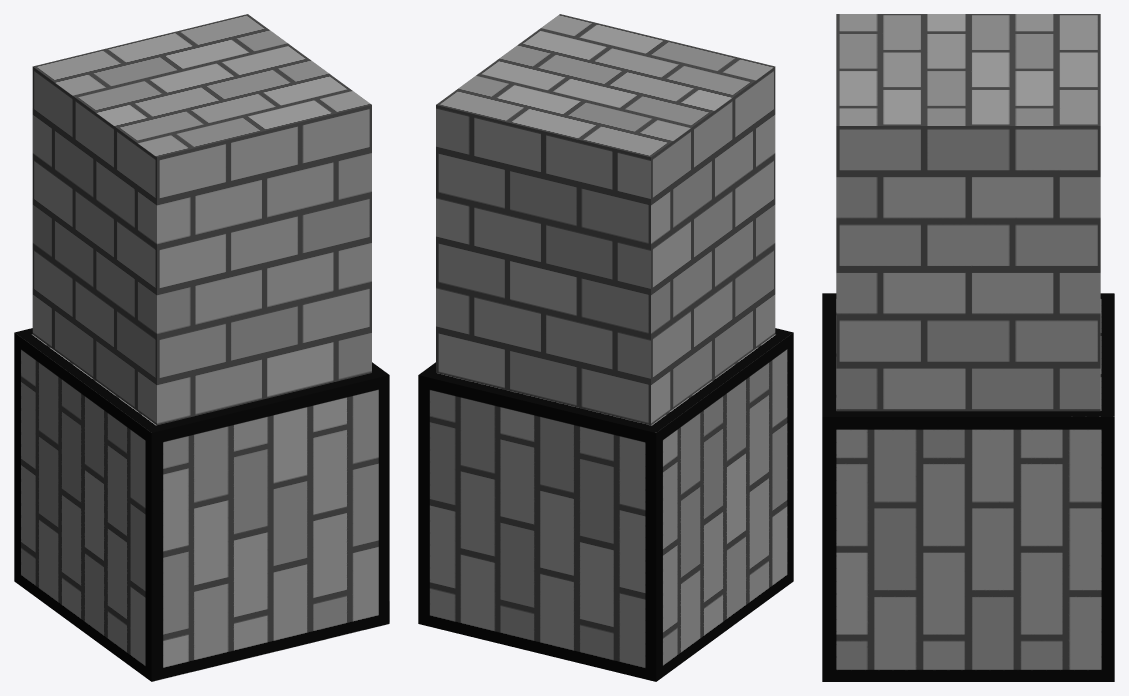
Rendered from BricksWall_corner.glb.
3 views of the same model, side by side, from view 1: azimuth 30°, elevation 25°; view 2: azimuth 150°, elevation 25°; view 3: azimuth 270°, elevation 25° (orthographic). The views are drawn at different scales.
Visible parts, largest first — view 1: BricksWall.Corner.Baked; view 2: BricksWall.Corner.Baked; view 3: BricksWall.Corner.Baked.
Boxes of the visible parts, x1,y1,x2,y2 form: BricksWall.Corner.Baked: (14,14,389,681); BricksWall.Corner.Baked: (418,14,793,681); BricksWall.Corner.Baked: (822,14,1114,681).
Size of the model in its own units: 0.98 by 2.03 by 0.98.
1 material, 1 textured.
